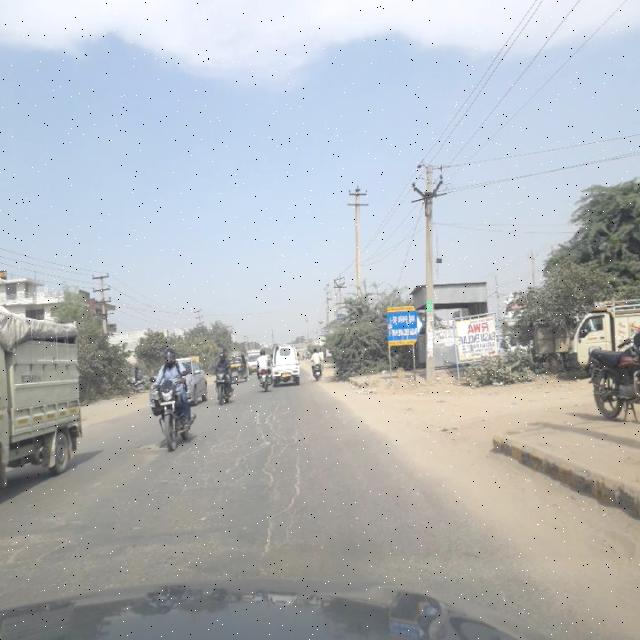D20: (214, 407, 312, 549), (1, 503, 87, 572)
